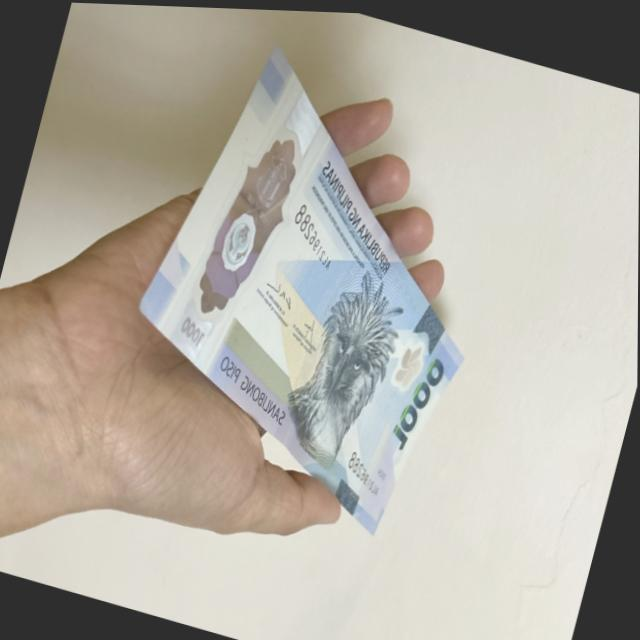clear_window: (182, 90, 314, 351)
eagle: (272, 268, 405, 466)
sampaguita: (393, 322, 432, 390)
serial_number: (267, 195, 347, 280), (336, 445, 395, 502)
